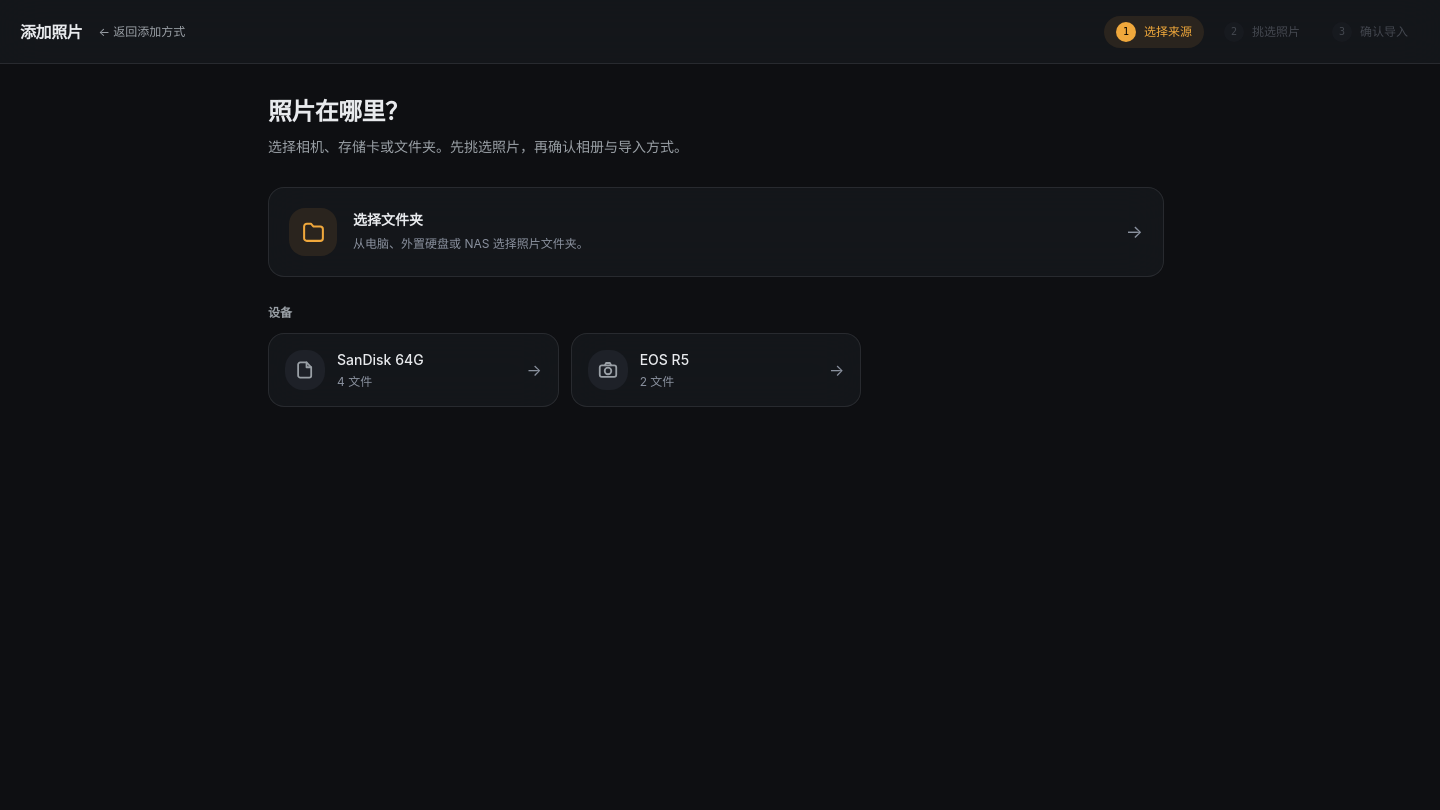
选择文件夹与最近使用 › 选择文件夹：openDialog → folderScan 快照入册并自动选中进挑选步
The width and height of the screenshot is (1440, 810).
Step 1. Click the button with test id "wizard-choose-folder" → x=313, y=232, box [268,187,1164,277]
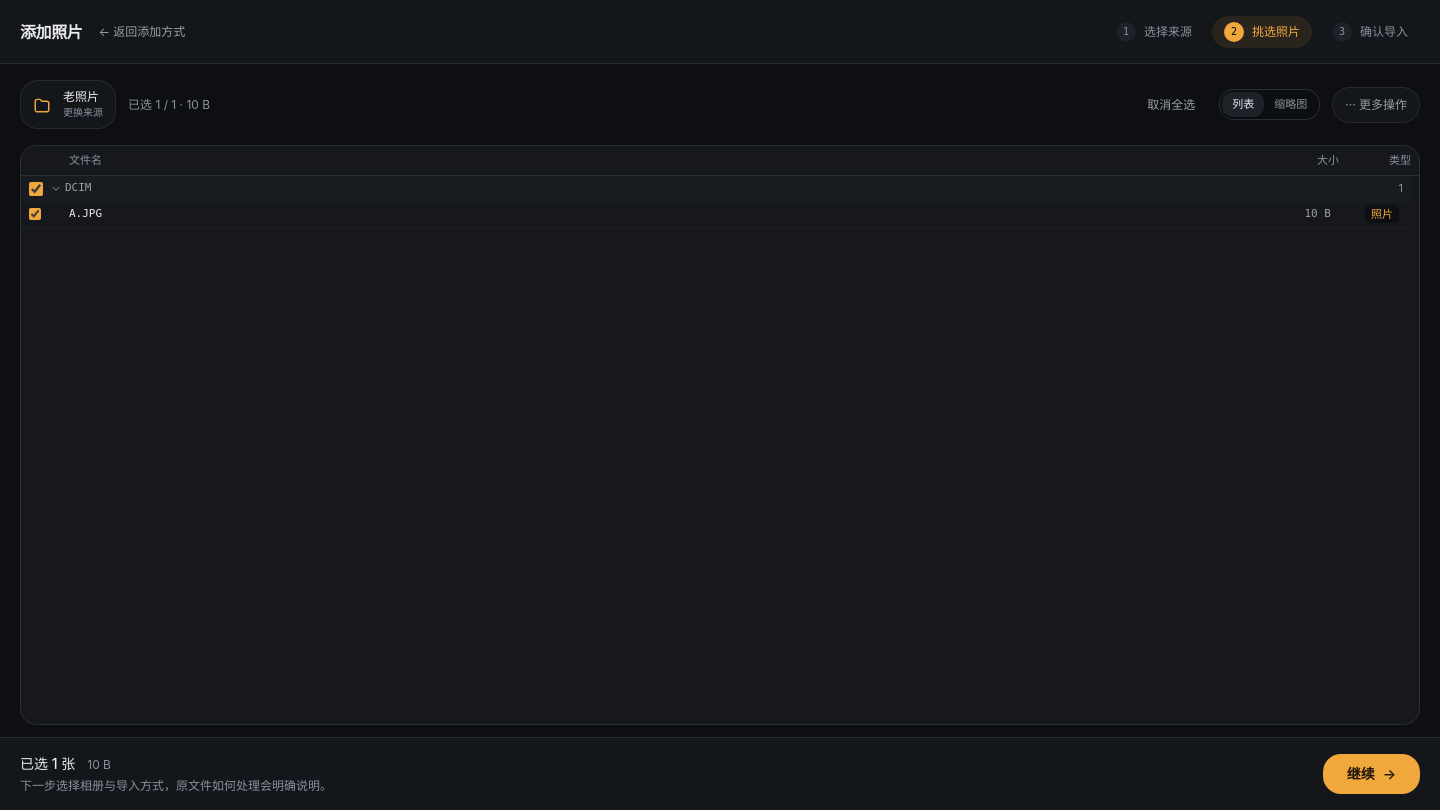
Expected: the element with test id "wizard-table-stats" shows "已选 1 / 1", [128,96,210,112]
Expected: the text "A.JPG" is shown, [69,207,102,220]
